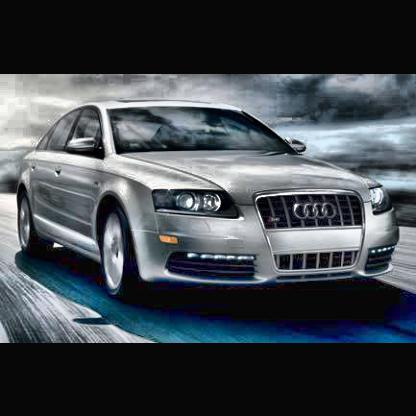Audi S6 Sedan 2011: (16, 101, 402, 303)
